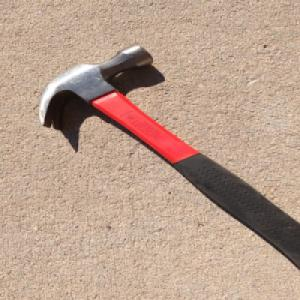Hammer: (36, 41, 300, 271)
